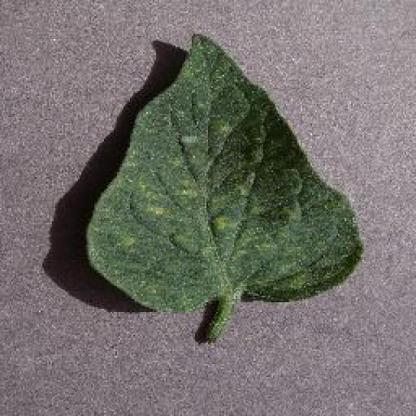Tomato_Spider_Mites: (86, 33, 362, 309)
